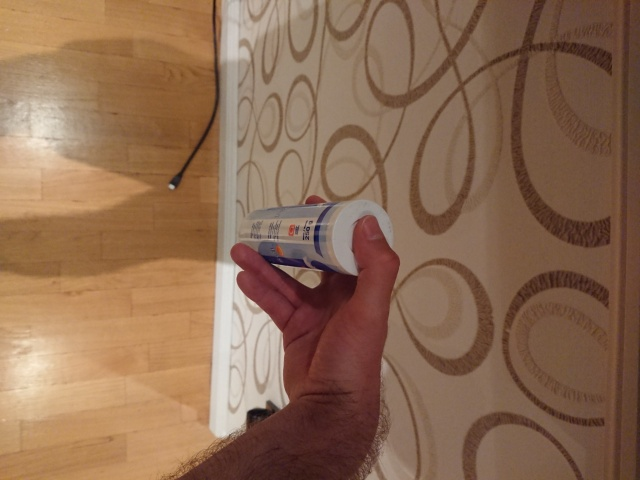Solana Pag Fine Sea Salt 250g: (233, 196, 398, 280)
